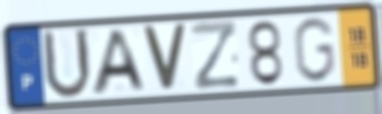8: (245, 19, 285, 87)
A: (88, 27, 150, 97)
G: (290, 14, 337, 85)
U: (39, 26, 95, 103)
V: (139, 23, 190, 95)
Z: (189, 19, 242, 94)
